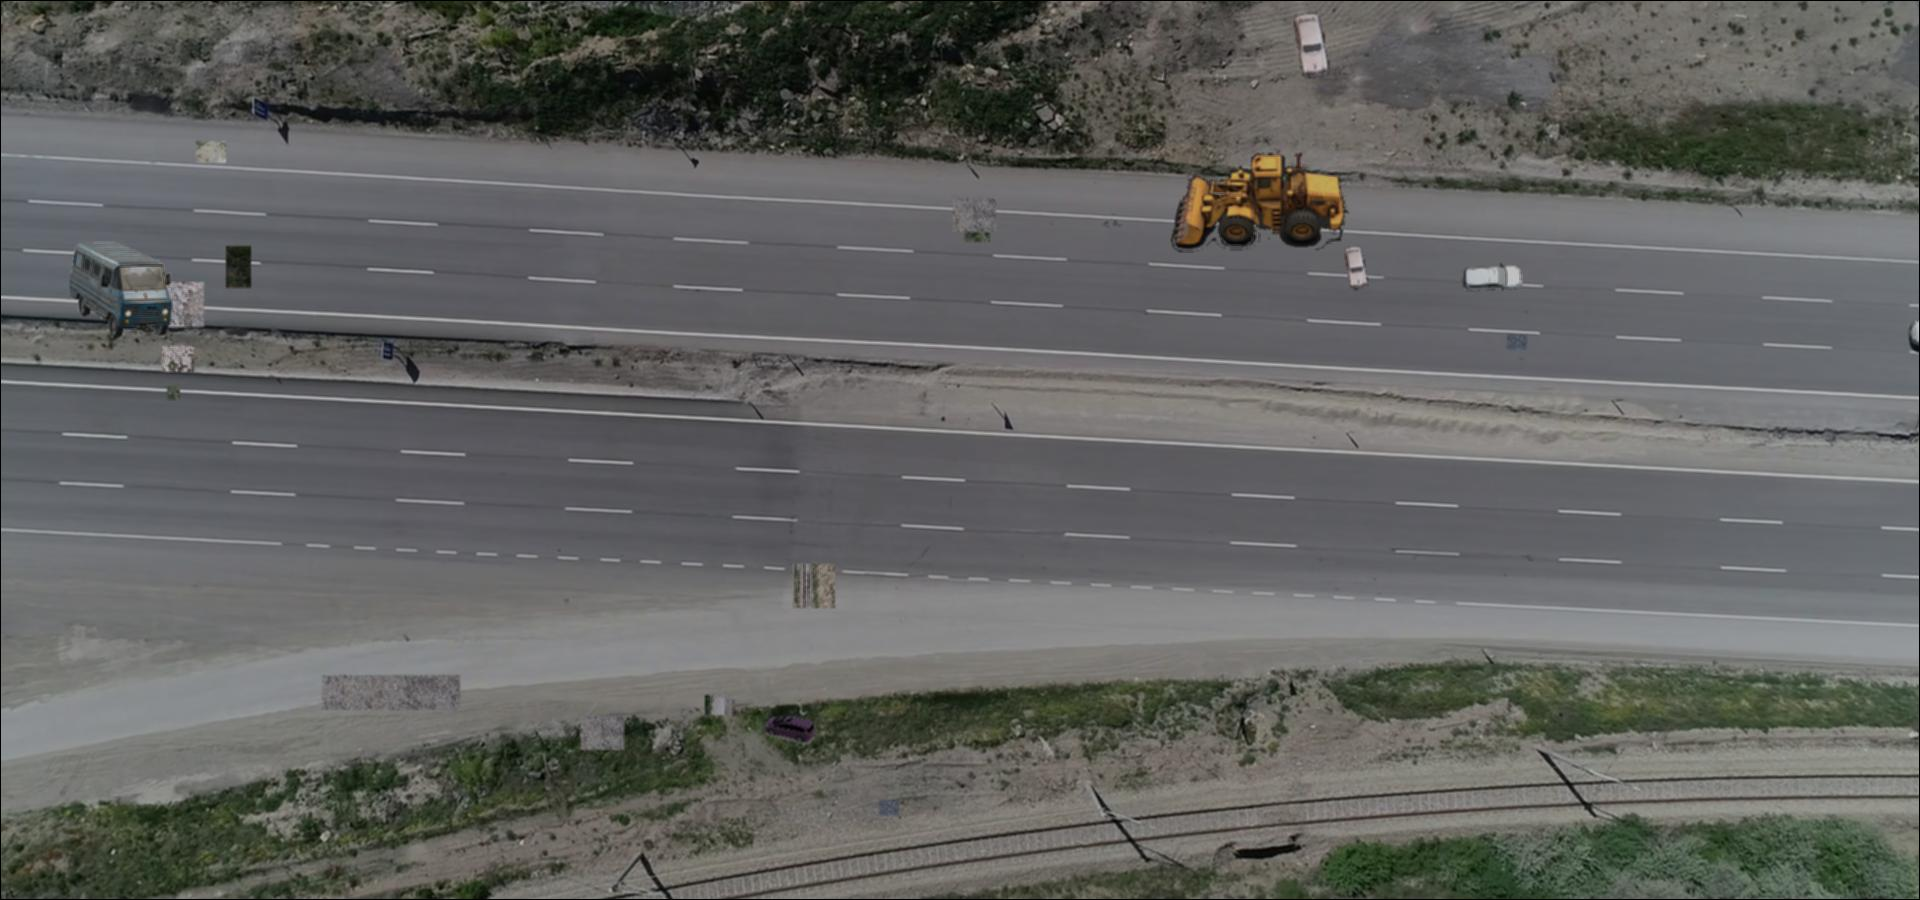arac: (1166, 149, 1353, 252), (66, 240, 176, 340), (1291, 11, 1333, 80), (1461, 262, 1523, 291), (764, 715, 816, 744), (1342, 245, 1371, 290)
